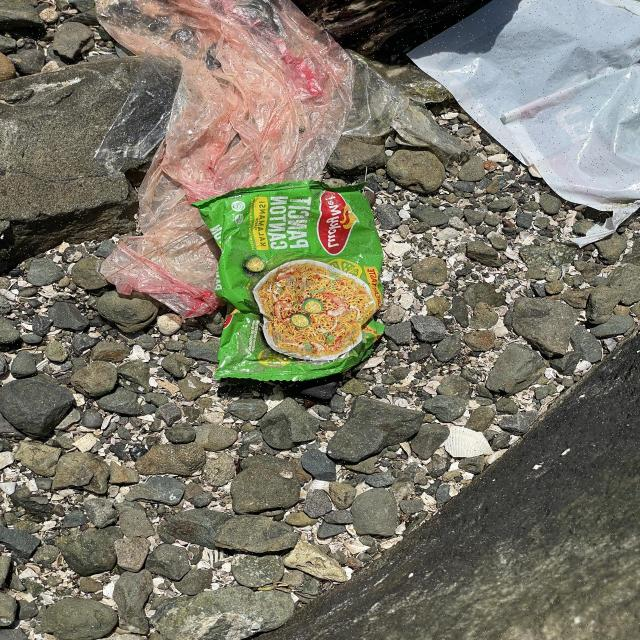plastic_waste: (406, 1, 640, 210), (193, 177, 380, 383)
